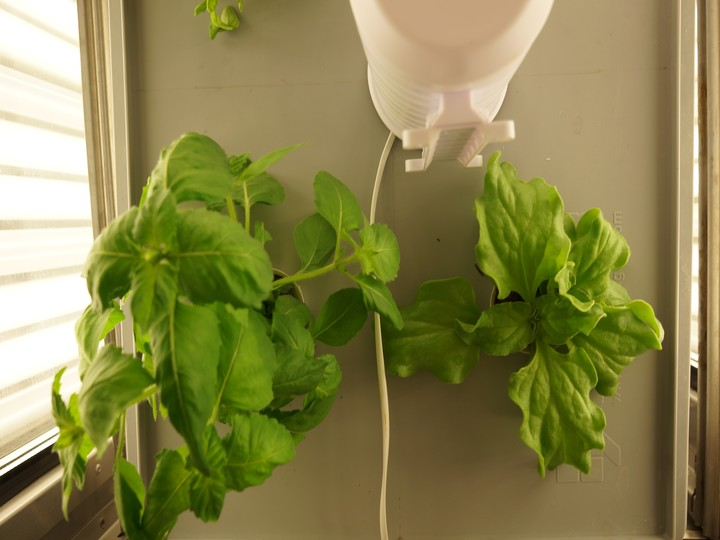basilic_blue_spice: (22, 128, 406, 537)
ficoide_glaciale: (392, 154, 679, 489)
roquette_sauvage_red_veined: (184, 1, 264, 44)
